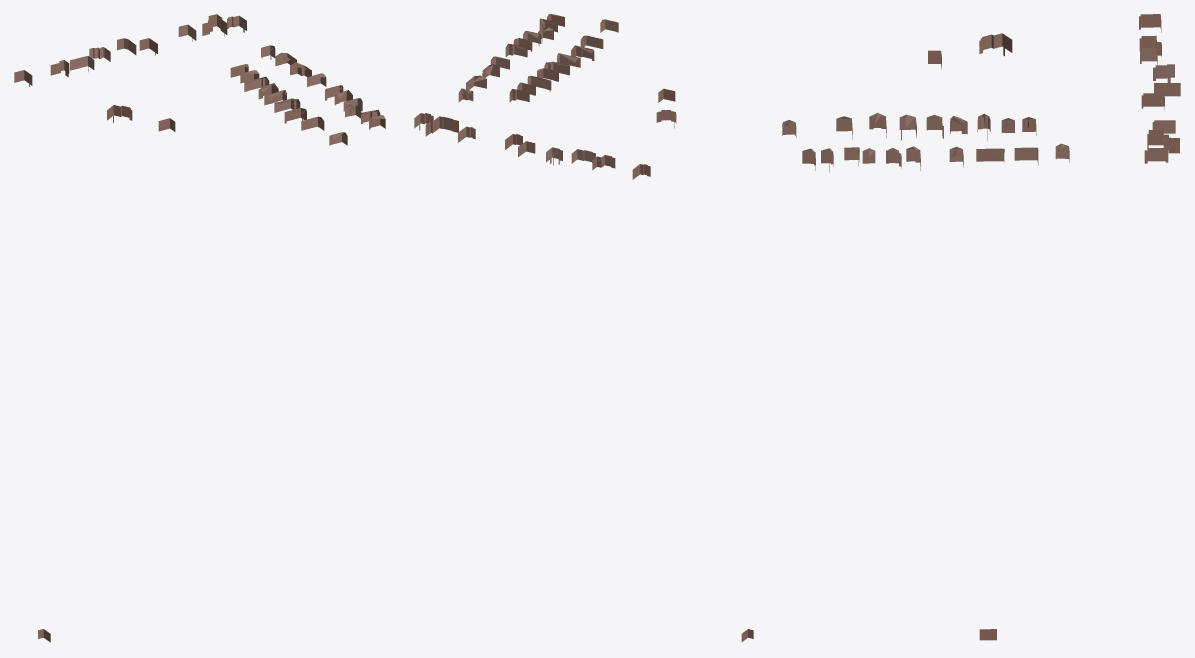
File: c_1638_17837_buildings_residential.glb
3 renders of one model, left to right at view 1: azimuth 30°, elevation 25°; view 2: azimuth 150°, elevation 25°; view 3: azimuth 270°, elevation 25°, orthographic. The views are drawn at different scales.
Visible parts, largest first — view 1: geometry_0; view 2: geometry_0; view 3: geometry_0.
Part boxes in pixels (x1,y1,x2,y2): geometry_0: (14, 14, 385, 642); geometry_0: (414, 14, 753, 641); geometry_0: (782, 14, 1180, 640).
Bounding box in the file's own units: 261 × 466 × 257.
